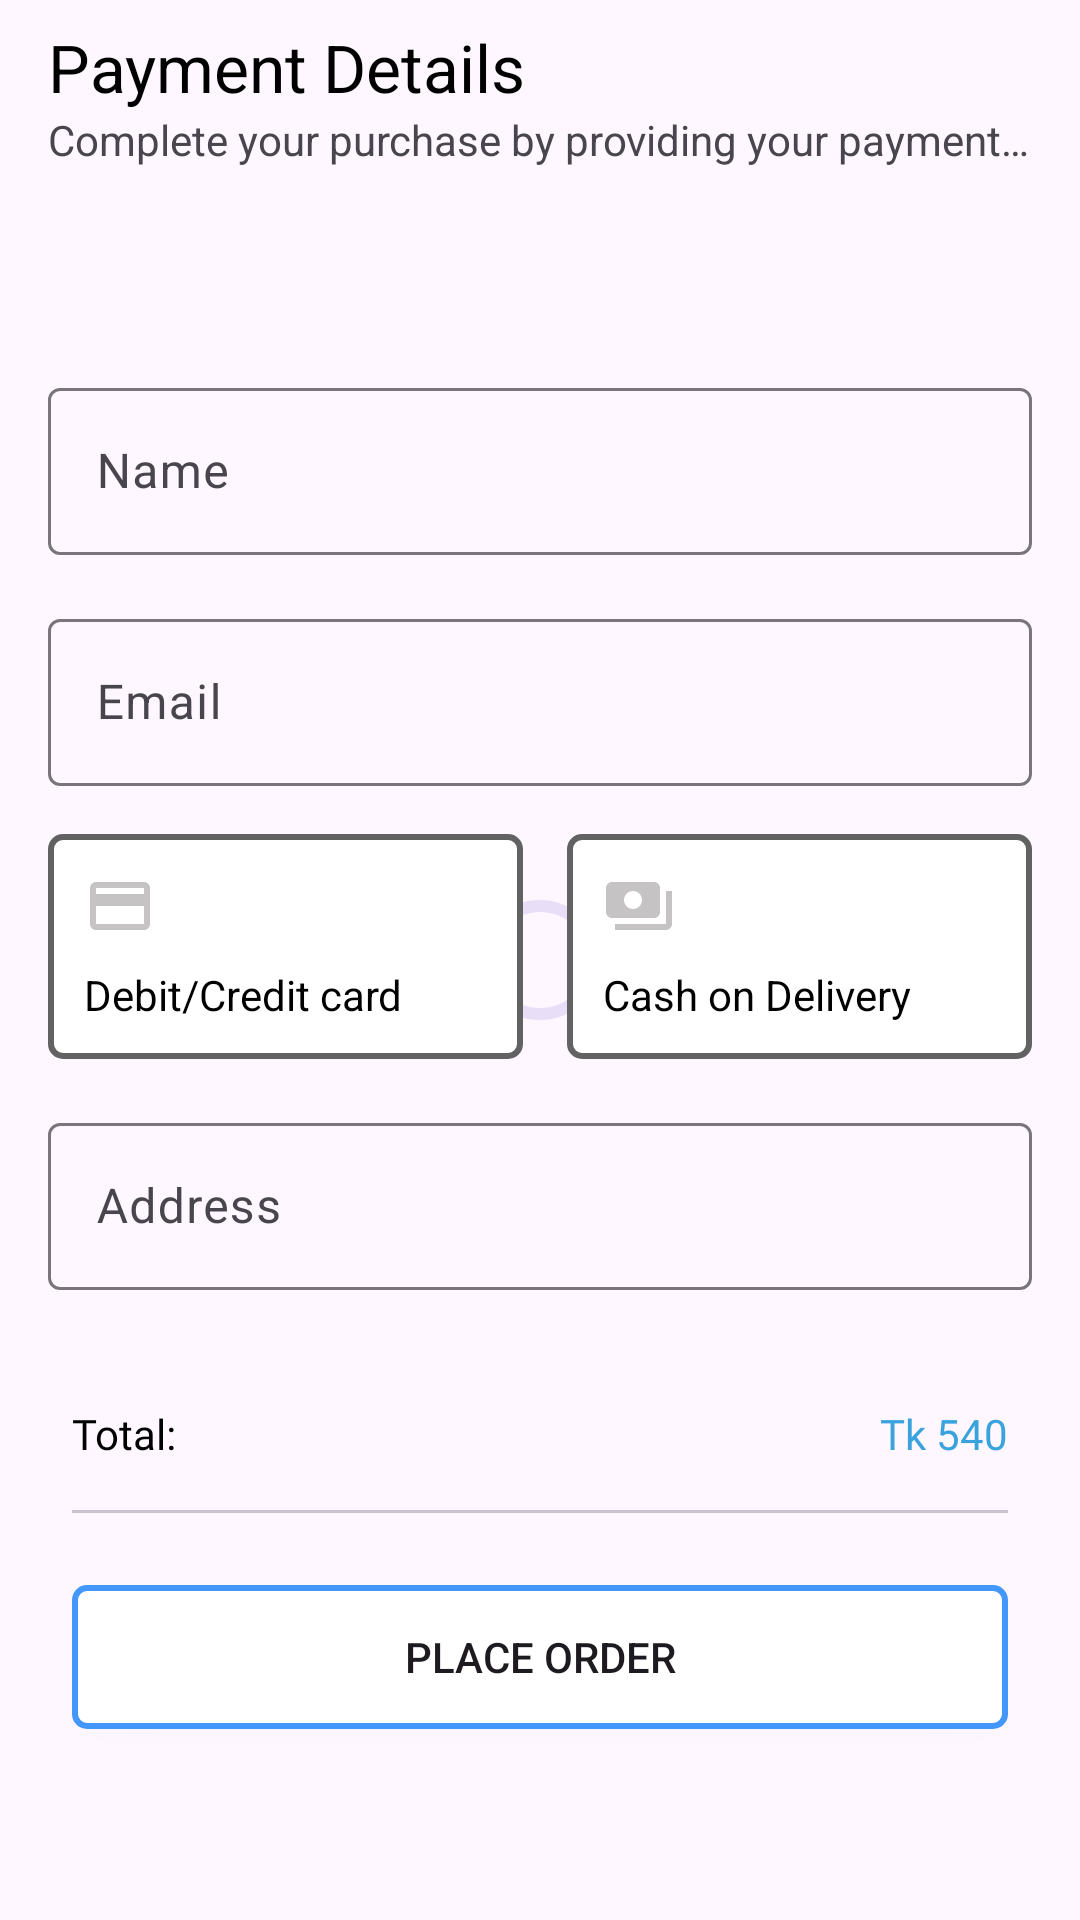

Where to tap for icons on this 1080x1920 app screen, as point (x, y):
payments: point (639, 906)
